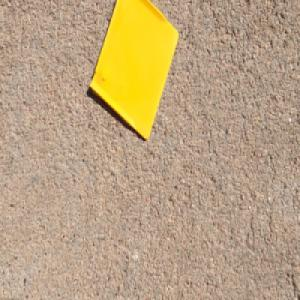PlasticPart: (88, 0, 179, 141)
